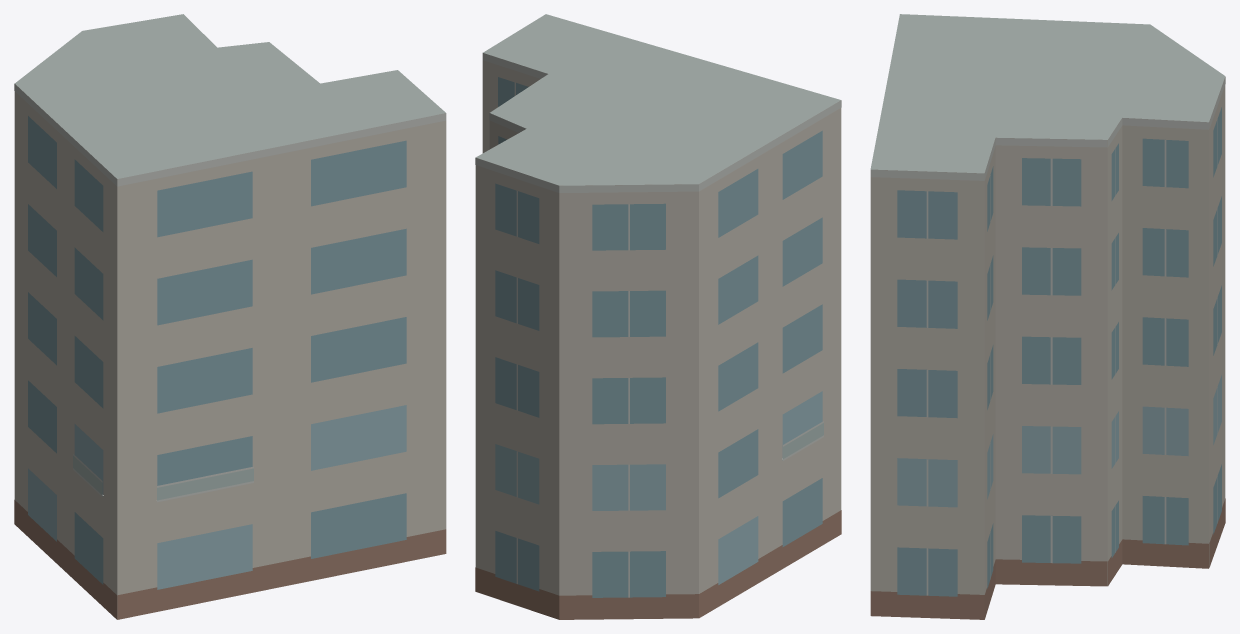
The model's file is survey-upis-32750266.glb.
The picture shows the model from 3 angles, left to right: view 1: azimuth 30°, elevation 25°; view 2: azimuth 150°, elevation 25°; view 3: azimuth 270°, elevation 25°; orthographic projection. The views are drawn at different scales.
Parts seen in each view (by area): view 1: survey-upis-32750266.tmp; view 2: survey-upis-32750266.tmp; view 3: survey-upis-32750266.tmp.
Boxes of the visible parts, bbox=[...] form: survey-upis-32750266.tmp: bbox=[14, 14, 446, 619]; survey-upis-32750266.tmp: bbox=[475, 14, 841, 619]; survey-upis-32750266.tmp: bbox=[870, 14, 1225, 619].
Size of the model in its own units: 10.96 by 14.3 by 10.32.
